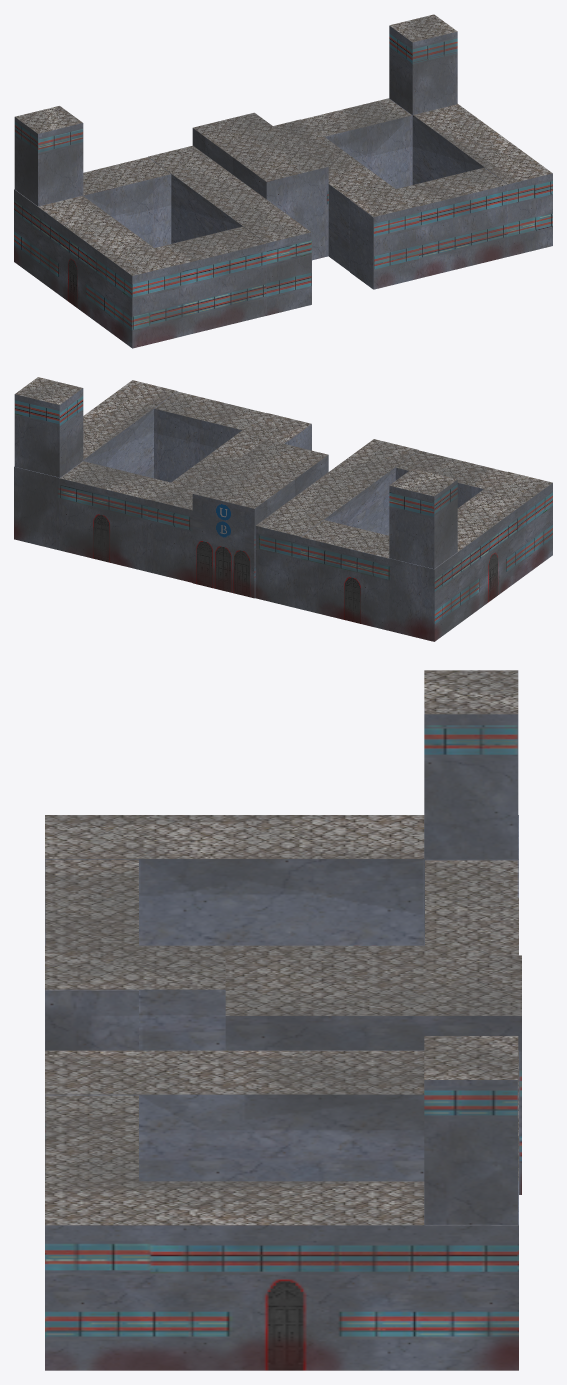
Rendered from universitatlvl3lowhealth.fbx.
The picture shows the model from 3 angles, top to bottom: view 1: azimuth 30°, elevation 25°; view 2: azimuth 150°, elevation 25°; view 3: azimuth 270°, elevation 25°; orthographic projection. The views are drawn at different scales.
Visible parts, largest first — view 1: EntradaCentro.006; view 2: EntradaCentro.006; view 3: EntradaCentro.006.
Part boxes in pixels (x1=…): EntradaCentro.006: x1=14, y1=14, x2=552, y2=348; EntradaCentro.006: x1=14, y1=377, x2=552, y2=641; EntradaCentro.006: x1=45, y1=670, x2=521, y2=1370.
Bounding box in the file's own units: 7867 × 2595 × 3863.
